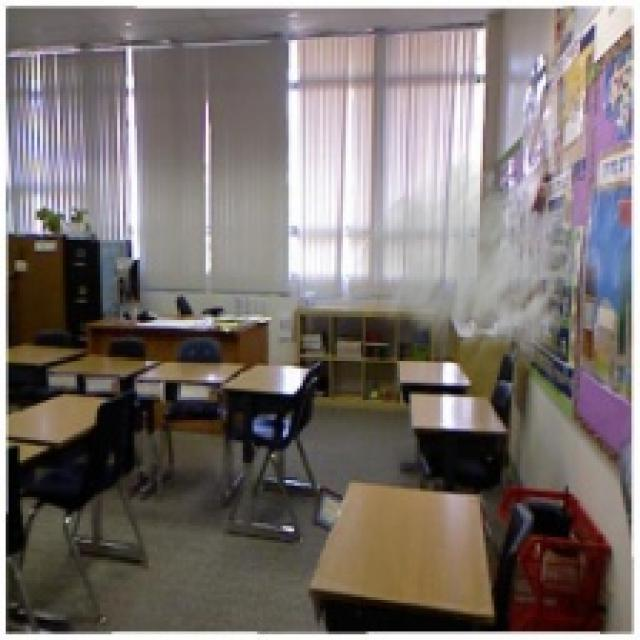Smoke: (351, 152, 603, 398)
